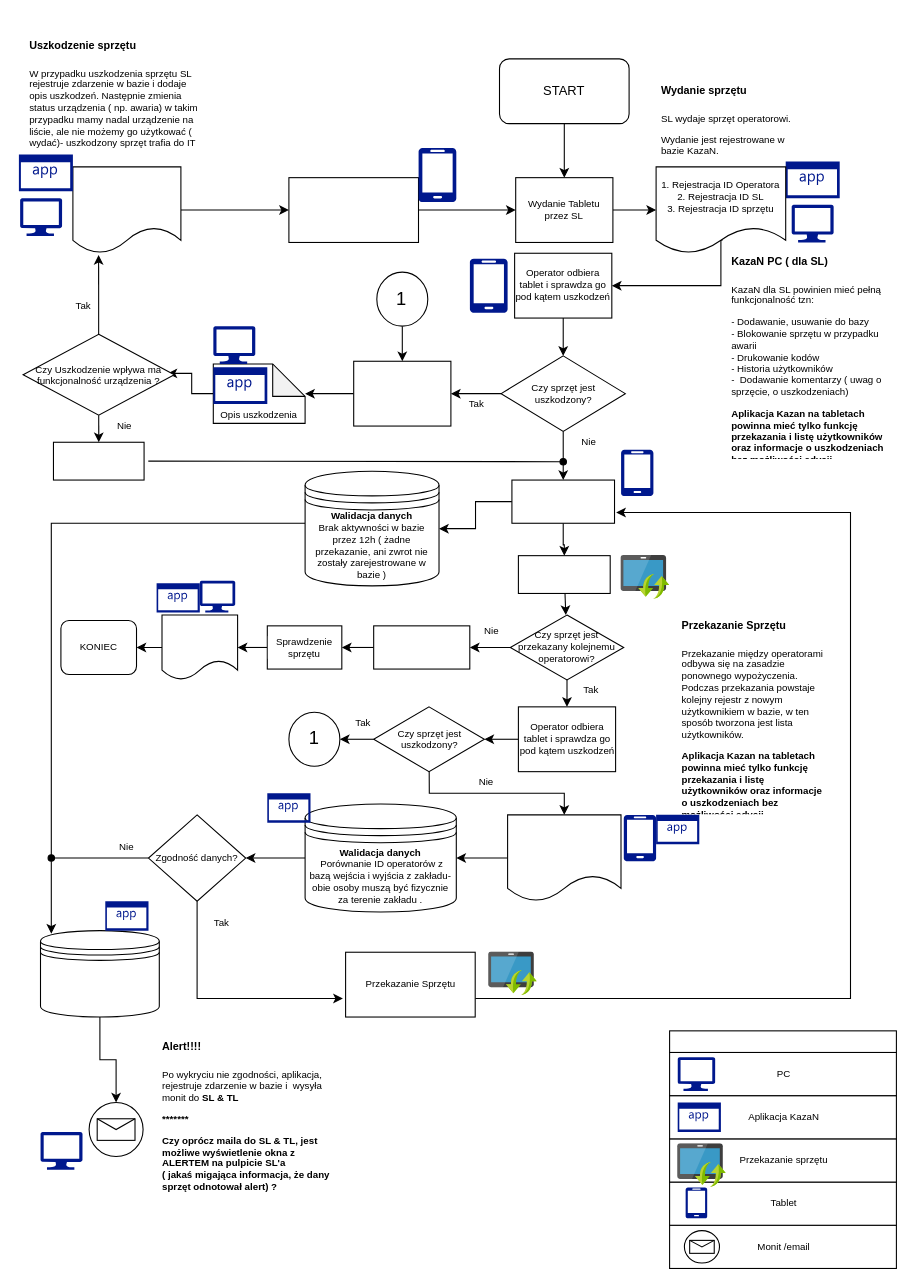
Some shapes in this 915 by 1287 pixel diagram are drawn without their labels. The shapes that lost their labels are listed below. From the top down, each one's centre as x and y in pixels, then its label:
At (126,209): "Informacja o uszkodzeniu. Zablokowanie urządzenia w bazie".
At (353,209): "Pobranie nowego sprzętu".
At (402,393): "Zgłoszenie uszkodzenia do SL".
At (98,460): "Dopuszczenie sprzętu do użytku przez SL".
At (563,501): "Praca".
At (563,574): "Zmiana użytkownika sprzętu".
At (199,647): "Zarejestrowanie zwrotu sprzętu".
At (421,647): "Zwrot sprzętu do SL".
At (564,857): "1. Rejestracja ID obecnego użytkownika. 2. Rejestracja Nowego użytkownika".
At (99,973): "ALERT!!!! Wykrycie niezgodności. Automatyczny zapis Alarmu w bazie KazaN.".
At (782,1041): "LEGENDA".
